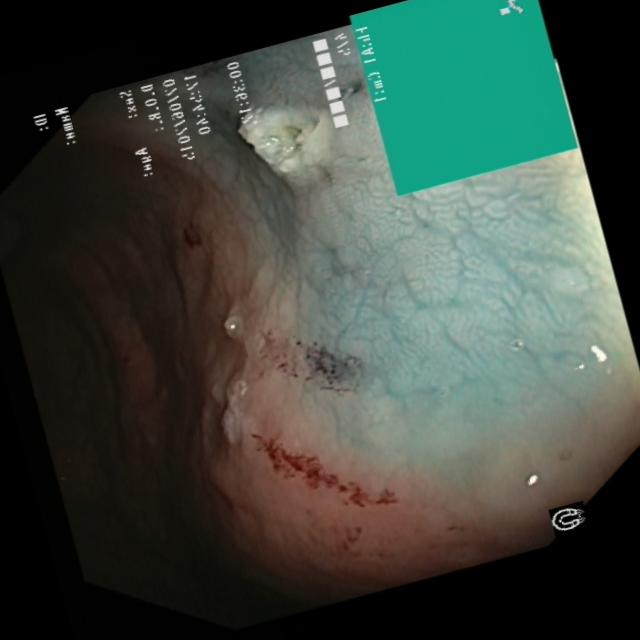dyed-resection-margins: (232, 423, 421, 523), (239, 320, 373, 407), (230, 94, 337, 195)
